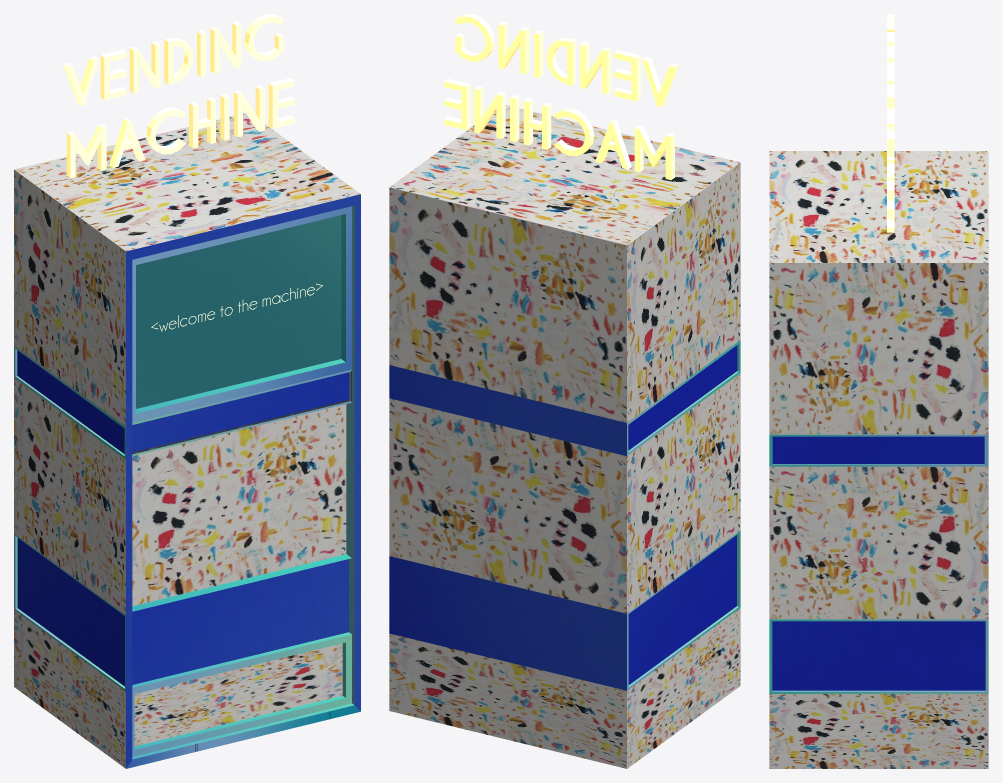
File: machine1_v4.gltf
3 renders of one model, left to right at view 1: azimuth 30°, elevation 25°; view 2: azimuth 150°, elevation 25°; view 3: azimuth 270°, elevation 25°, orthographic. The views are drawn at different scales.
Visible parts, largest first — view 1: machine, vending, welcome; view 2: machine, vending; view 3: machine, vending.
Boxes of the visible parts, box(x1,y1,x2,y2) form: machine: box(14, 113, 360, 768); vending: box(63, 14, 294, 178); welcome: box(151, 283, 322, 331); machine: box(389, 105, 740, 768); vending: box(444, 14, 678, 179); machine: box(769, 151, 988, 768); vending: box(887, 14, 894, 232).
Size of what is drawn, in the model's own units: 1.43 by 3.84 by 1.18.
Materials: 4 (3 with a texture image).
